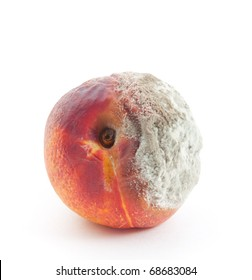peach: (42, 72, 202, 231)
rotten: (113, 73, 201, 212)
